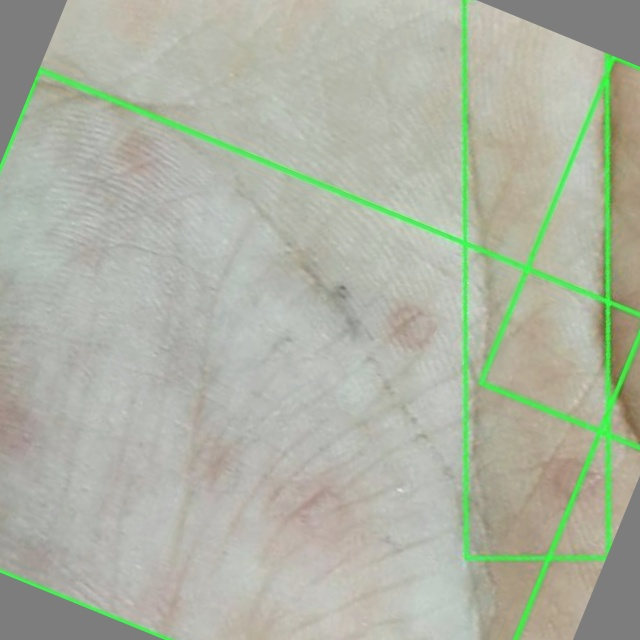Contact Dermatitis: (0, 69, 639, 639), (465, 0, 606, 559)
